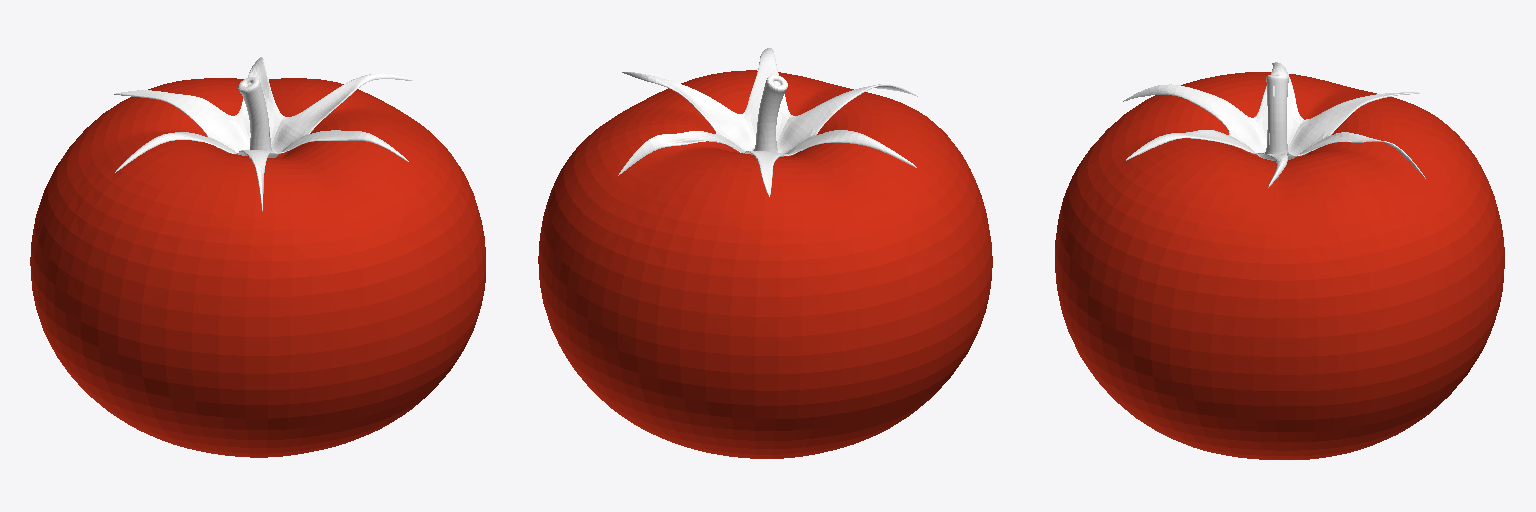
3 views of the same model, side by side, from view 1: azimuth 30°, elevation 25°; view 2: azimuth 150°, elevation 25°; view 3: azimuth 270°, elevation 25° (orthographic).
Size of the model in its own units: 0.3632 by 0.3177 by 0.361.
2 materials, 1 textured.